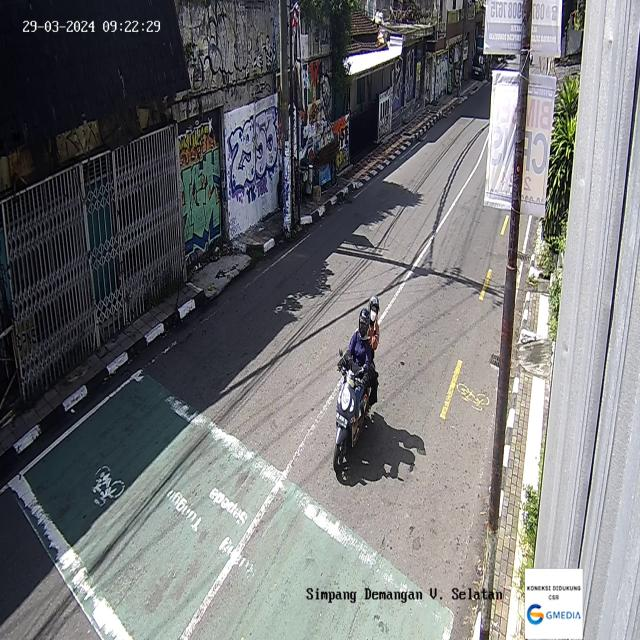motorcycle: (333, 294, 380, 482)
